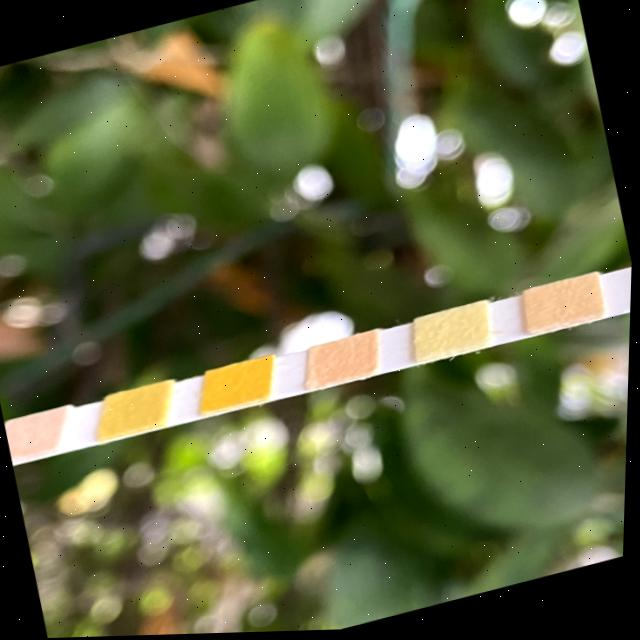Blood: (207, 358, 270, 411)
Ketone: (9, 409, 58, 459)
Protein: (415, 304, 491, 363)
SpGravity: (107, 384, 164, 435)
Urobilinogen: (526, 275, 602, 335)
pH: (309, 333, 376, 387)
